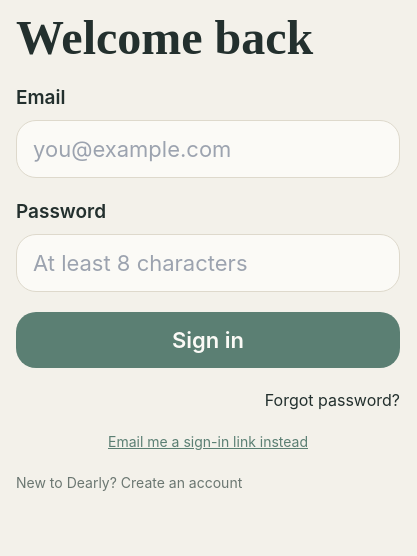
AuthForm › surfaces the API error message on failure
Step 1. Type "sarah@example.com" into the field labelled "Email" → (208, 149), box [16,120,400,178]
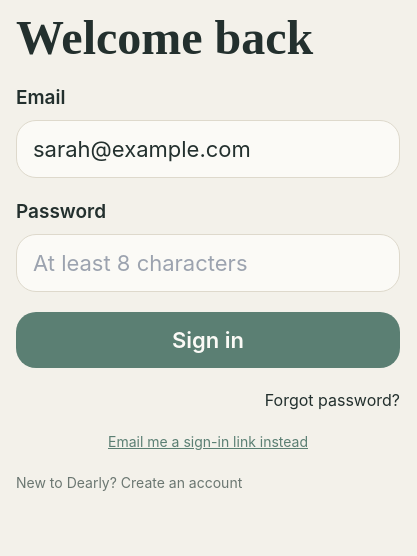
Step 2. Type "longenough" into the password field labelled "Password" → (208, 263), box [16,234,400,292]
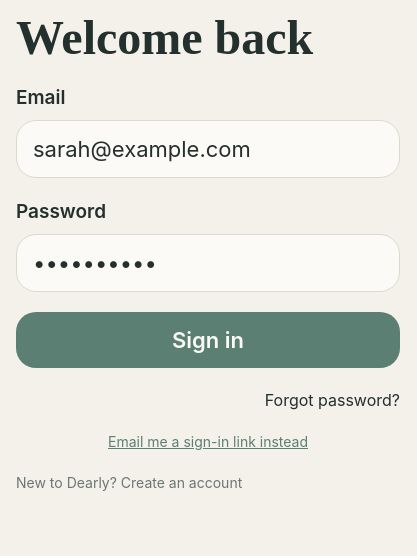
Step 3. Click the button "Sign in" → (208, 340), box [16,312,400,368]
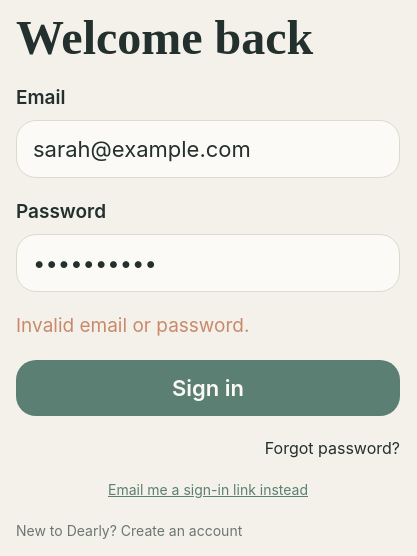
expect the text "Invalid email or password." is shown: met, box [16,314,249,337]
